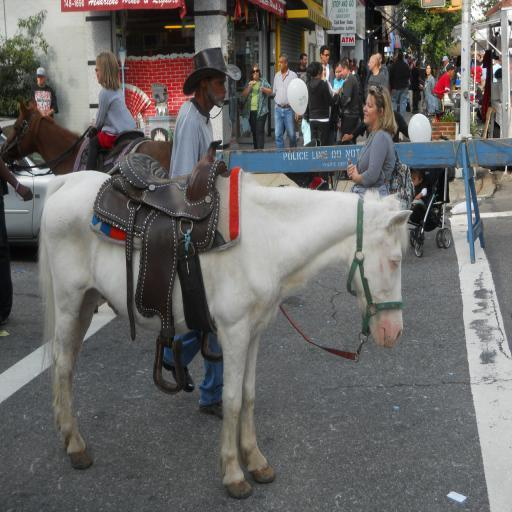horse: (40, 170, 411, 502), (0, 97, 173, 313)
